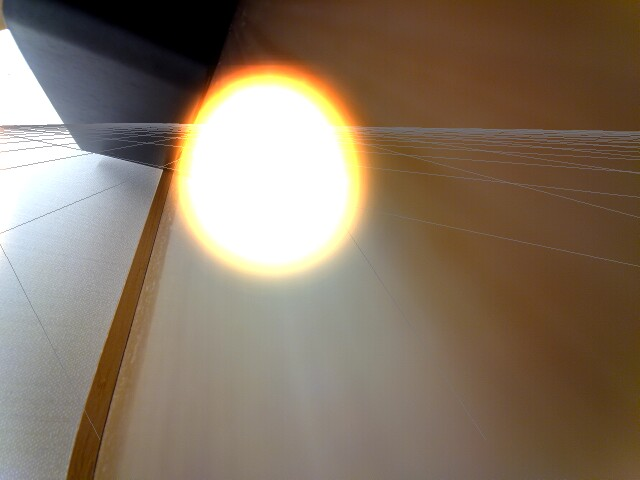firebig: (153, 48, 373, 289)
